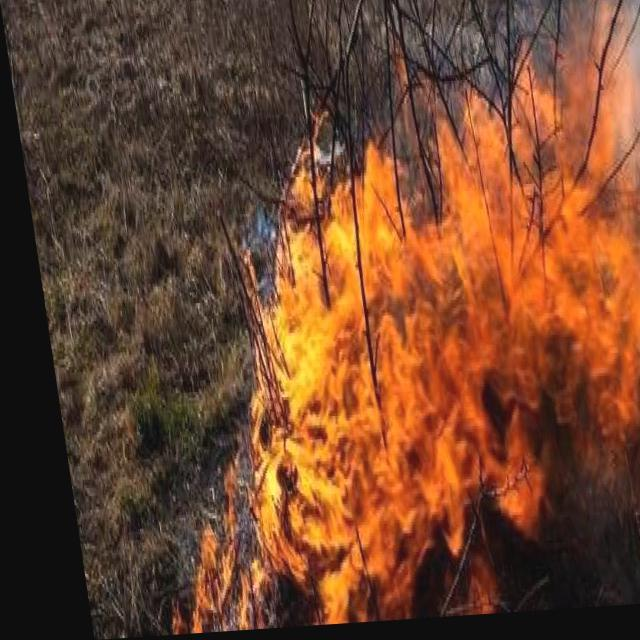Fire: (122, 32, 639, 623)
